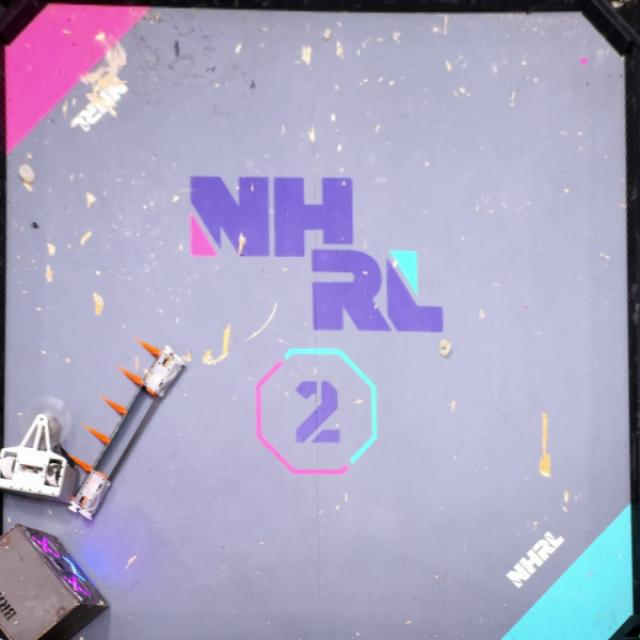housebot: (0, 521, 112, 640)
robot: (65, 338, 191, 524), (0, 394, 78, 503)
